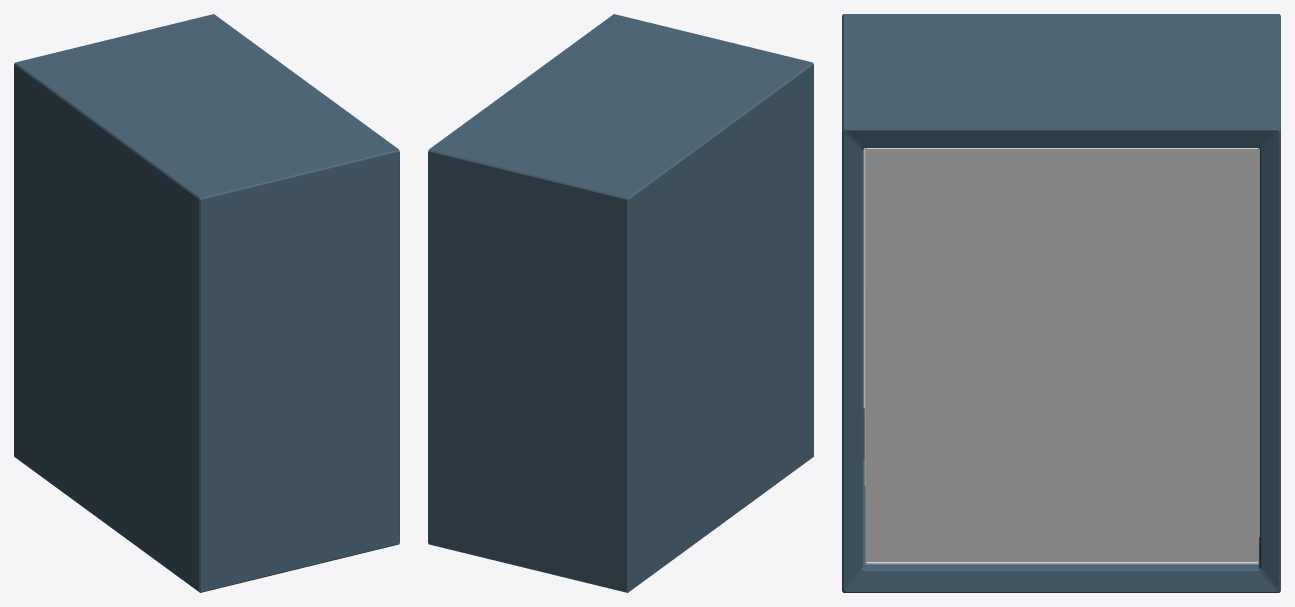
File: Valsoto_6.fbx
3 views of the same model, side by side, from view 1: azimuth 30°, elevation 25°; view 2: azimuth 150°, elevation 25°; view 3: azimuth 270°, elevation 25° (orthographic). The views are drawn at different scales.
Parts seen in each view (by area): view 1: Plane.001; view 2: Plane.001; view 3: Perros y silla, Plane.001, Plane, Pasto.
Boxes of the visible parts, x1,y1,x2,y2 form: Plane.001: (14, 14, 399, 592); Plane.001: (428, 14, 813, 592); Perros y silla: (865, 148, 1258, 564); Plane.001: (842, 14, 1280, 592); Plane: (866, 148, 1257, 563); Pasto: (863, 148, 865, 408).
Bounding box in the file's own units: 59.41 × 112 × 95.53.
